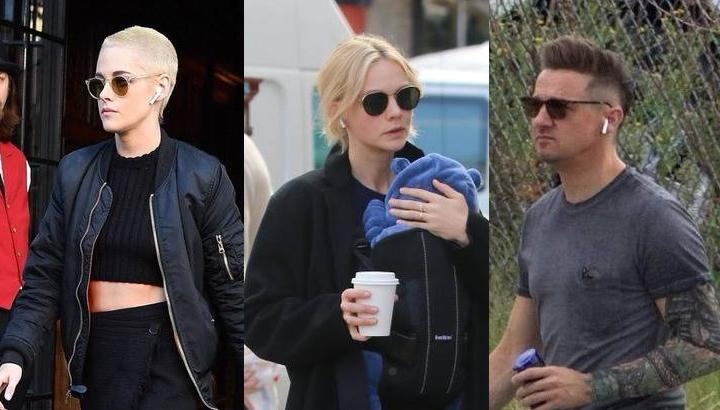earphone: (330, 106, 353, 128), (147, 85, 167, 105), (598, 112, 612, 137)
